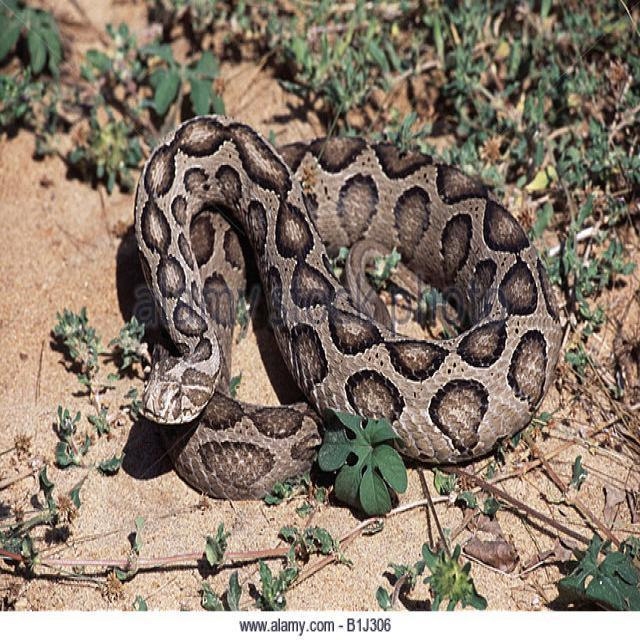Snake: (132, 110, 568, 509)
